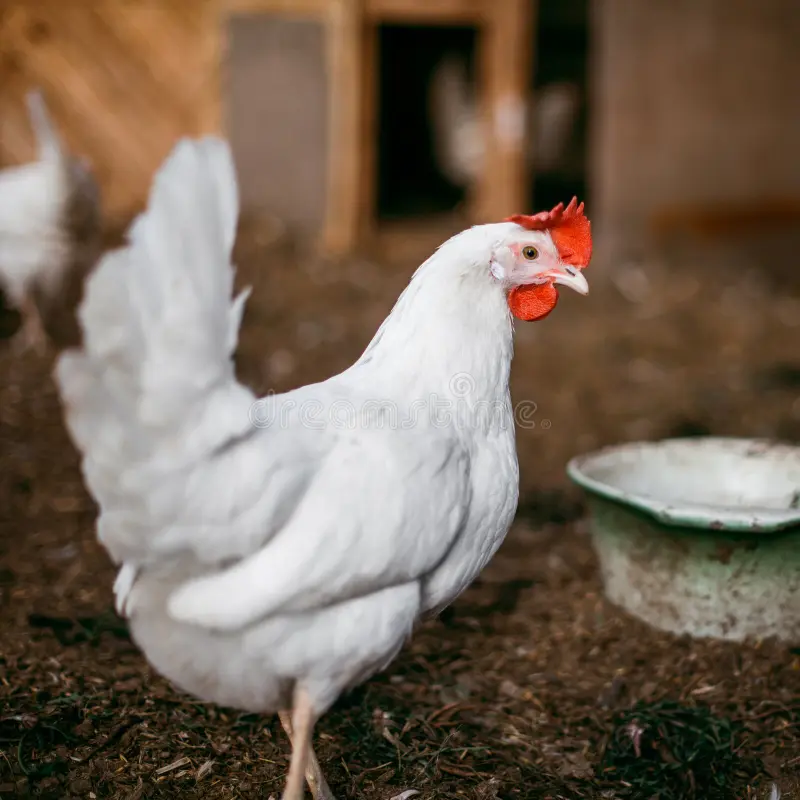Healthy: (47, 105, 603, 797)
